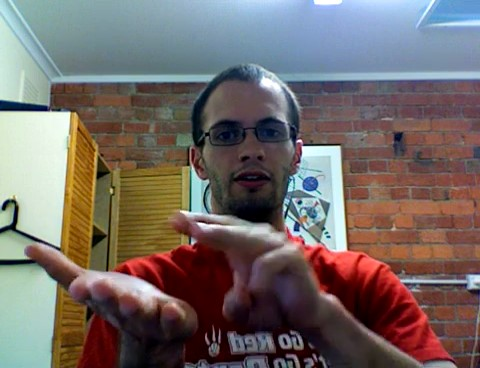M: (15, 201, 353, 360)
